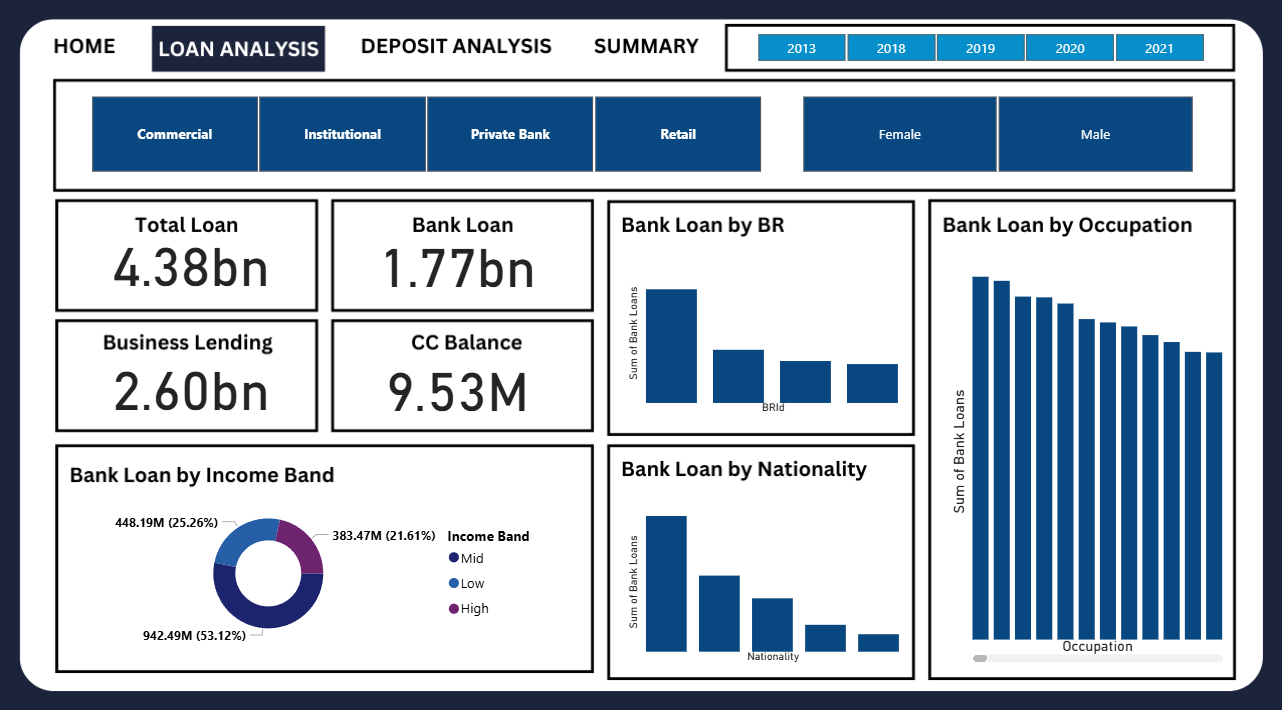

Layout of this report page (visuals, bound fields, positions):
{"tool":"powerbi","page":{"name":"Loan Analysis","canvas":[1280,720],"ordinal":1},"visuals":[{"type":"slicer","fields":{"Values":["banking_case cust.Year of Joining"]},"box":[731.2,29.7,493.3,39.7],"z":0},{"type":"actionButton","box":[37.2,29.7,100.4,39.7],"z":1000},{"type":"actionButton","box":[352,29.7,214.4,39.7],"z":2000},{"type":"actionButton","box":[580,29.7,132.6,39.7],"z":3000},{"type":"card","fields":{"Values":["banking_case cust.Total_Loan"]},"box":[98.8,227.5,190,68.8],"z":4000},{"type":"card","fields":{"Values":["Sum(banking_case cust.Bank Loans)"]},"box":[363.8,228.8,190,68.8],"z":5000},{"type":"card","fields":{"Values":["Sum(banking_case cust.Business Lending)"]},"box":[98.8,351.2,190,68.8],"z":6000},{"type":"card","fields":{"Values":["Sum(banking_case cust.Credit Card Balance)"]},"box":[363.8,352.5,190,68.8],"z":7000},{"type":"donutChart","fields":{"Category":["banking_case cust.Income Band"],"Y":["Sum(banking_case cust.Bank Loans)"]},"box":[87.5,498.8,466.2,150],"z":8000},{"type":"clusteredColumnChart","fields":{"Y":["Sum(banking_case cust.Bank Loans)"],"Category":["banking_case cust.BRId"]},"box":[623.8,251.2,281.2,168.8],"z":9000},{"type":"clusteredColumnChart","fields":{"Y":["Sum(banking_case cust.Bank Loans)"],"Category":["banking_case cust.Nationality"]},"box":[623.8,498.8,281.2,168.8],"z":10000},{"type":"clusteredColumnChart","fields":{"Y":["Sum(banking_case cust.Bank Loans)"],"Category":["banking_case cust.Occupation"]},"box":[943.8,251.2,281.2,416.2],"z":11000},{"type":"slicer","fields":{"Values":["banking_case cust.BRId"]},"box":[68.8,92.5,716.2,88.8],"z":12000},{"type":"slicer","fields":{"Values":["banking_case cust.GenderId"]},"box":[776.2,92.5,437.5,88.8],"z":13000}]}

Visuals, with their boxes in screenshot pixels (x1, y1, x2, y2), scaled from the page's 1280x720 canvas onto the 1282x710 screenshot:
slicer - banking_case cust.Year of Joining: [732,29,1226,68]
actionButton: [37,29,138,68]
actionButton: [353,29,567,68]
actionButton: [581,29,714,68]
card - banking_case cust.Total_Loan: [99,224,289,292]
card - Sum(banking_case cust.Bank Loans): [364,226,555,293]
card - Sum(banking_case cust.Business Lending): [99,346,289,414]
card - Sum(banking_case cust.Credit Card Balance): [364,348,555,415]
donutChart - banking_case cust.Income Band x Sum(banking_case cust.Bank Loans): [88,492,555,640]
clusteredColumnChart - Sum(banking_case cust.Bank Loans) x banking_case cust.BRId: [625,248,906,414]
clusteredColumnChart - Sum(banking_case cust.Bank Loans) x banking_case cust.Nationality: [625,492,906,658]
clusteredColumnChart - Sum(banking_case cust.Bank Loans) x banking_case cust.Occupation: [945,248,1227,658]
slicer - banking_case cust.BRId: [69,91,786,179]
slicer - banking_case cust.GenderId: [777,91,1216,179]
